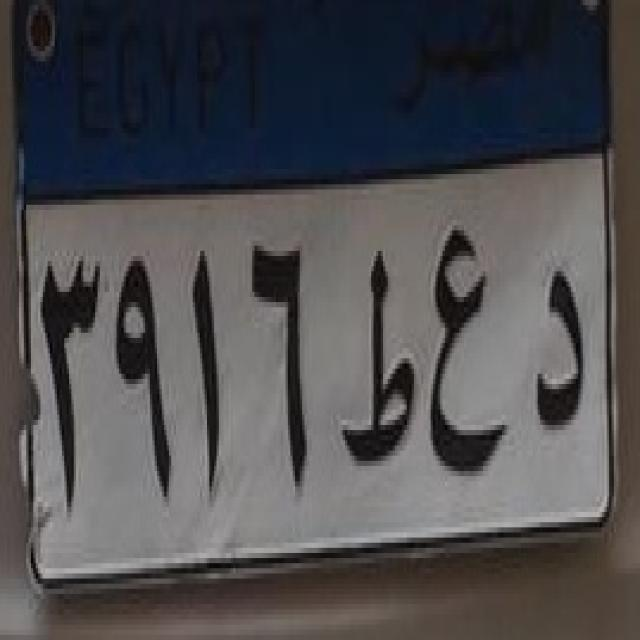1: (182, 237, 241, 522)
3: (27, 236, 105, 542)
6: (242, 225, 318, 507)
9: (106, 255, 182, 512)
Een: (418, 220, 512, 497)
Taa: (334, 244, 422, 486)
daal: (526, 260, 594, 452)
